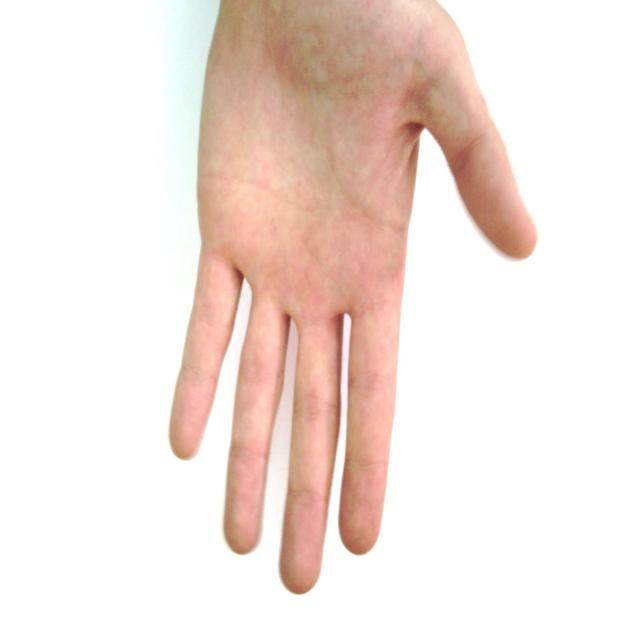others: (169, 0, 537, 598)
